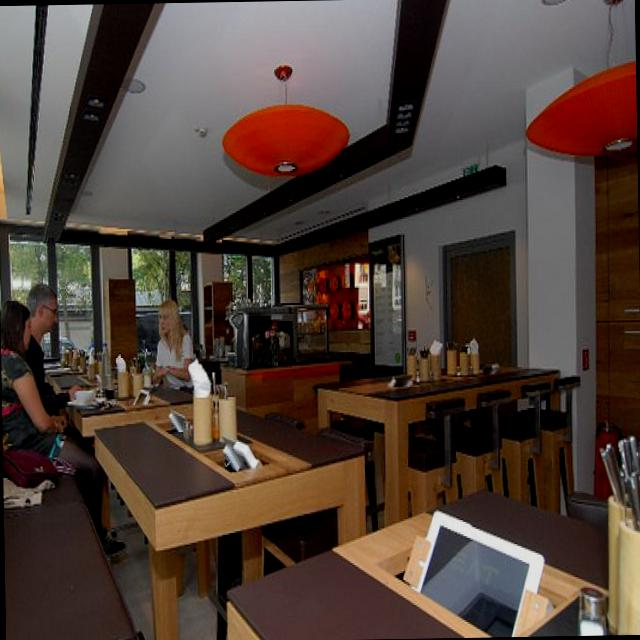Vehicle: (136, 313, 160, 341), (58, 300, 92, 318), (42, 340, 78, 356)
